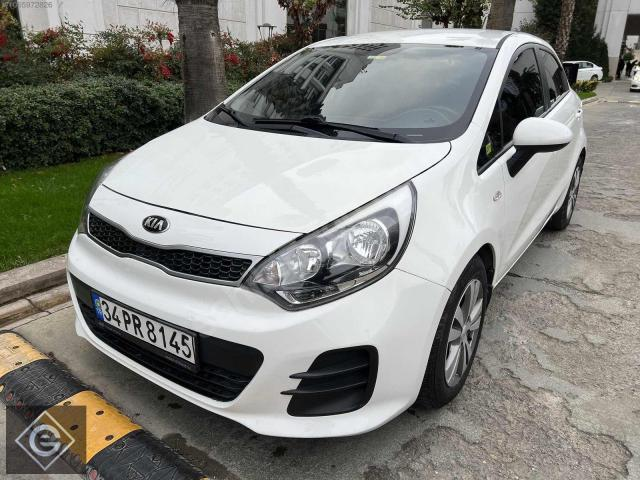plaka: (92, 292, 195, 366)
